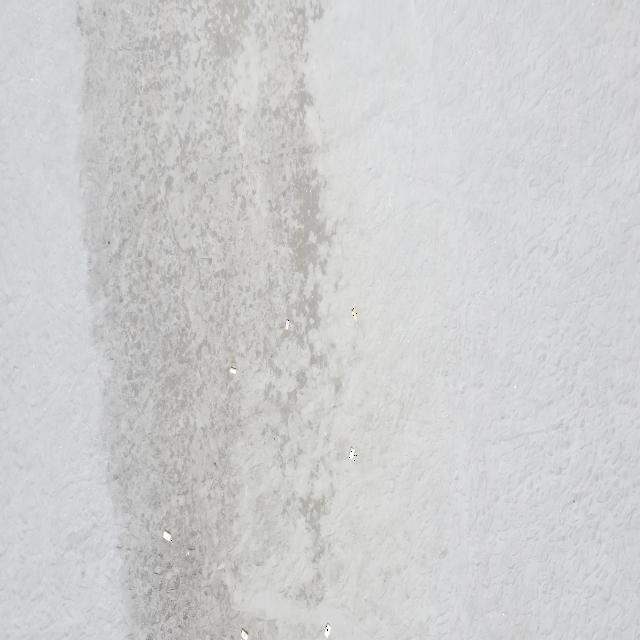Garbage: (348, 447, 355, 460), (240, 627, 247, 639), (163, 530, 171, 540), (324, 623, 329, 636), (228, 366, 236, 373), (352, 307, 355, 320), (284, 319, 287, 329)
